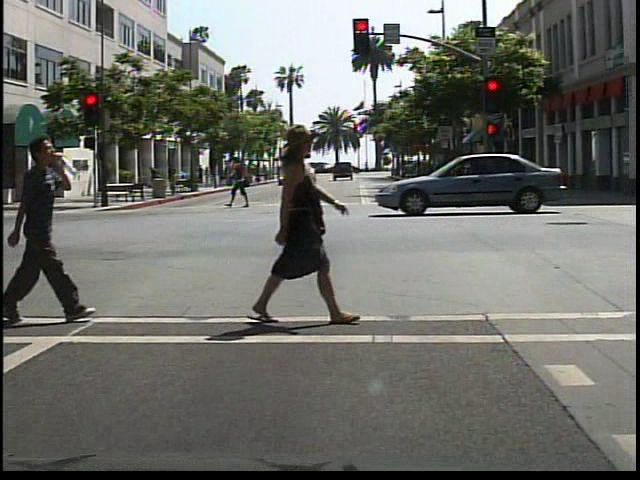person: (242, 128, 357, 333), (10, 129, 86, 326), (228, 155, 256, 209), (147, 164, 168, 195)
